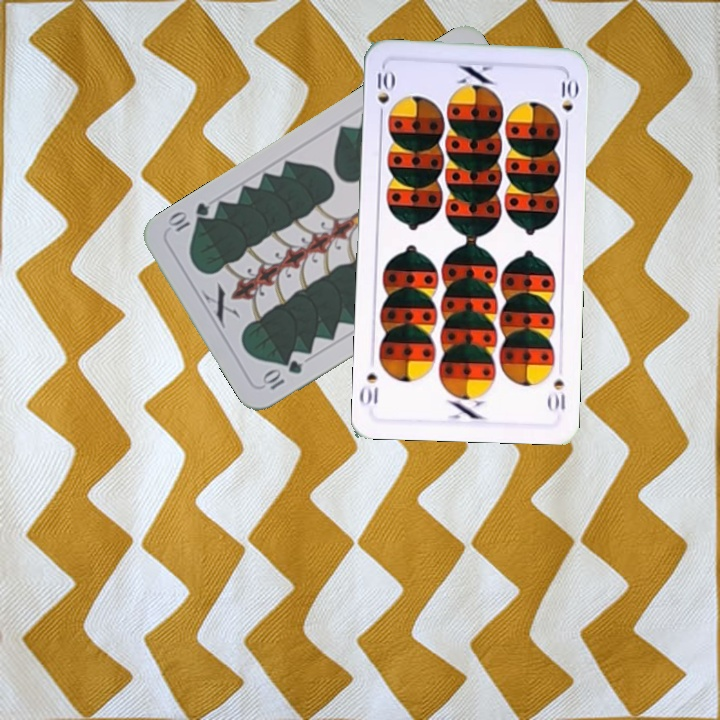G10: (258, 356, 305, 393)
S10: (373, 67, 396, 123), (544, 375, 568, 414)
